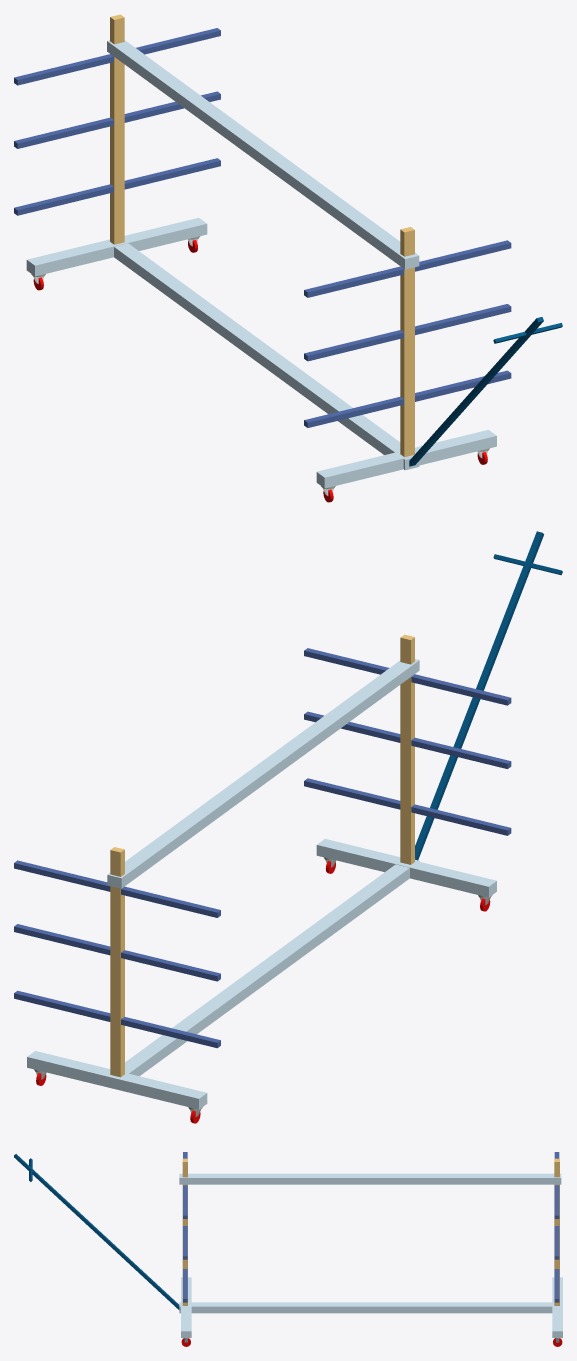
Rendered from Vault_transport.FBX.
3 renders of one model, top to bottom at view 1: azimuth 30°, elevation 25°; view 2: azimuth 150°, elevation 25°; view 3: azimuth 270°, elevation 25°, orthographic. The views are drawn at different scales.
Parts seen in each view (by area): view 1: Vault_transport; view 2: Vault_transport; view 3: Vault_transport.
Boxes of the visible parts, x1,y1,x2,y2 form: Vault_transport: [14, 14, 562, 502]; Vault_transport: [14, 531, 562, 1123]; Vault_transport: [14, 1152, 562, 1346].
Size of the model in its own units: 10.66 by 13.14 by 38.87.
